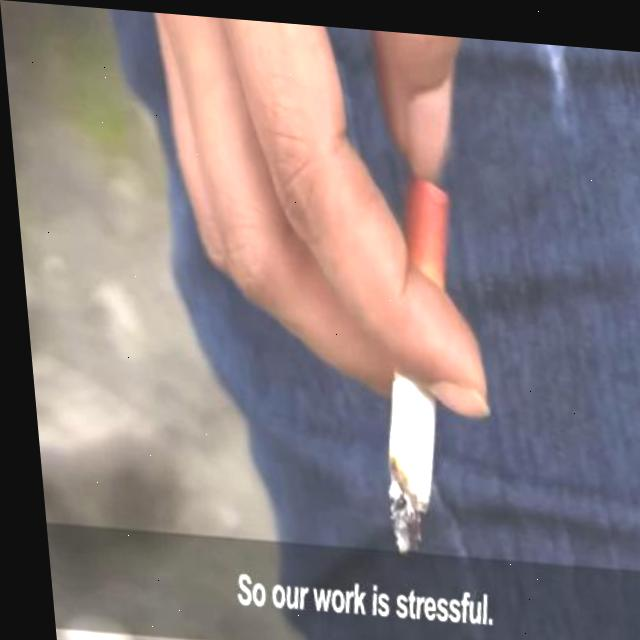cigarette: (354, 164, 476, 557)
